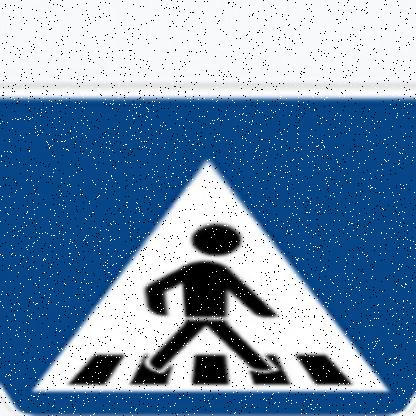Pedestrian Crossing: (1, 92, 416, 416)
